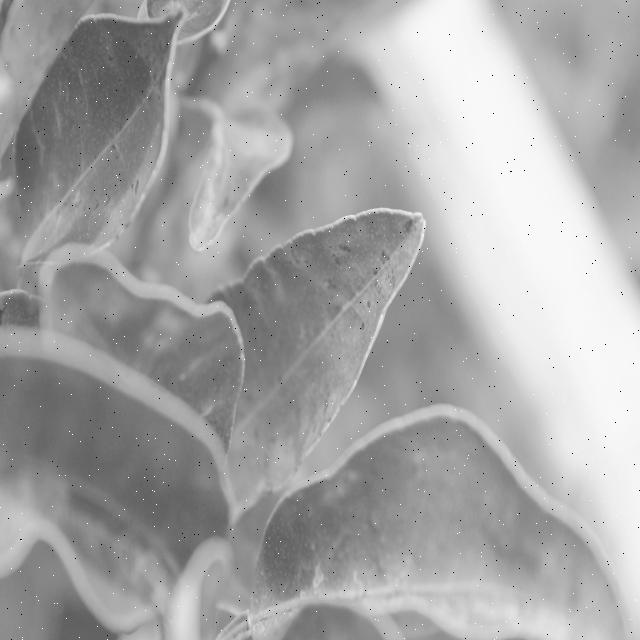canker: (232, 217, 419, 478), (255, 512, 550, 632), (32, 24, 170, 239), (82, 274, 229, 451)
